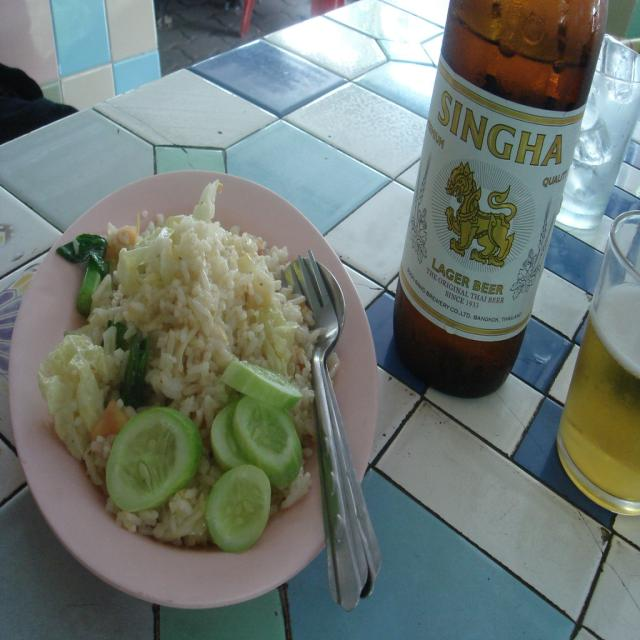singha: (399, 63, 584, 337)
